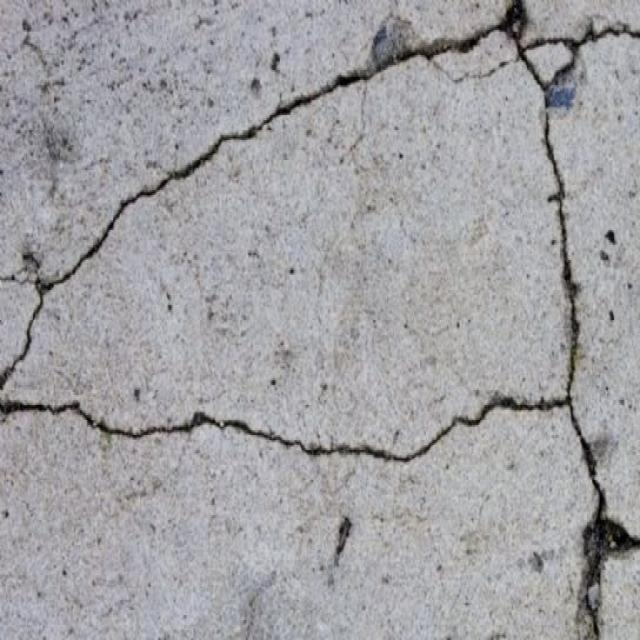Turtle-shell patterned: (6, 12, 640, 640)
